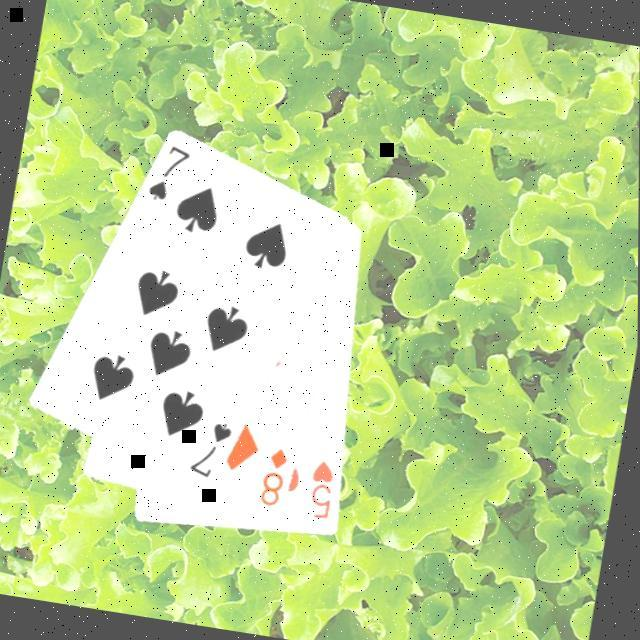5H: (303, 456, 342, 524)
7S: (186, 414, 237, 484), (143, 138, 194, 208)
8D: (255, 442, 292, 510)
